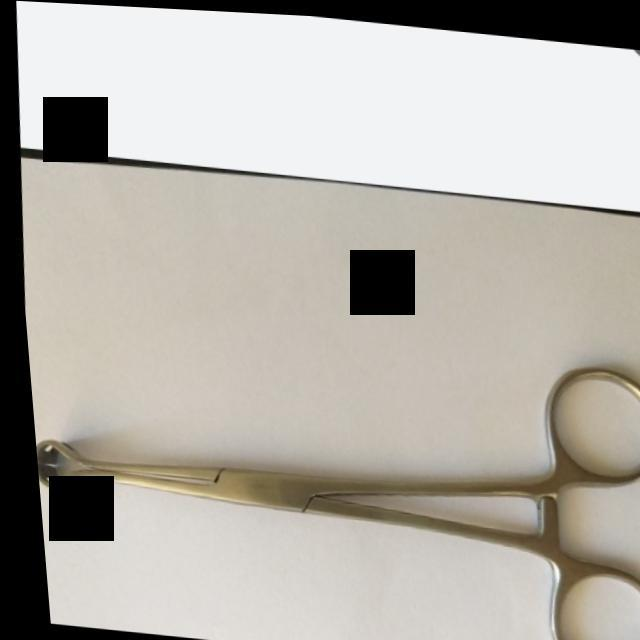Babcock Forceps: (19, 299, 640, 640)
